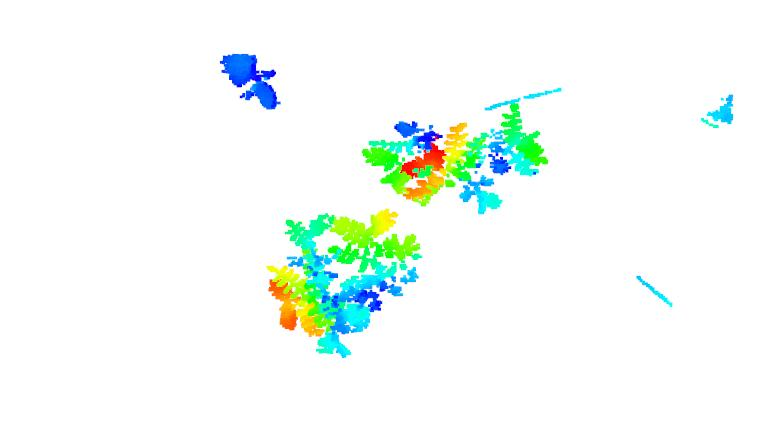chickpea: (257, 257, 390, 359), (409, 125, 540, 209), (461, 96, 549, 210), (326, 210, 422, 302), (361, 112, 438, 195), (279, 212, 344, 287)
